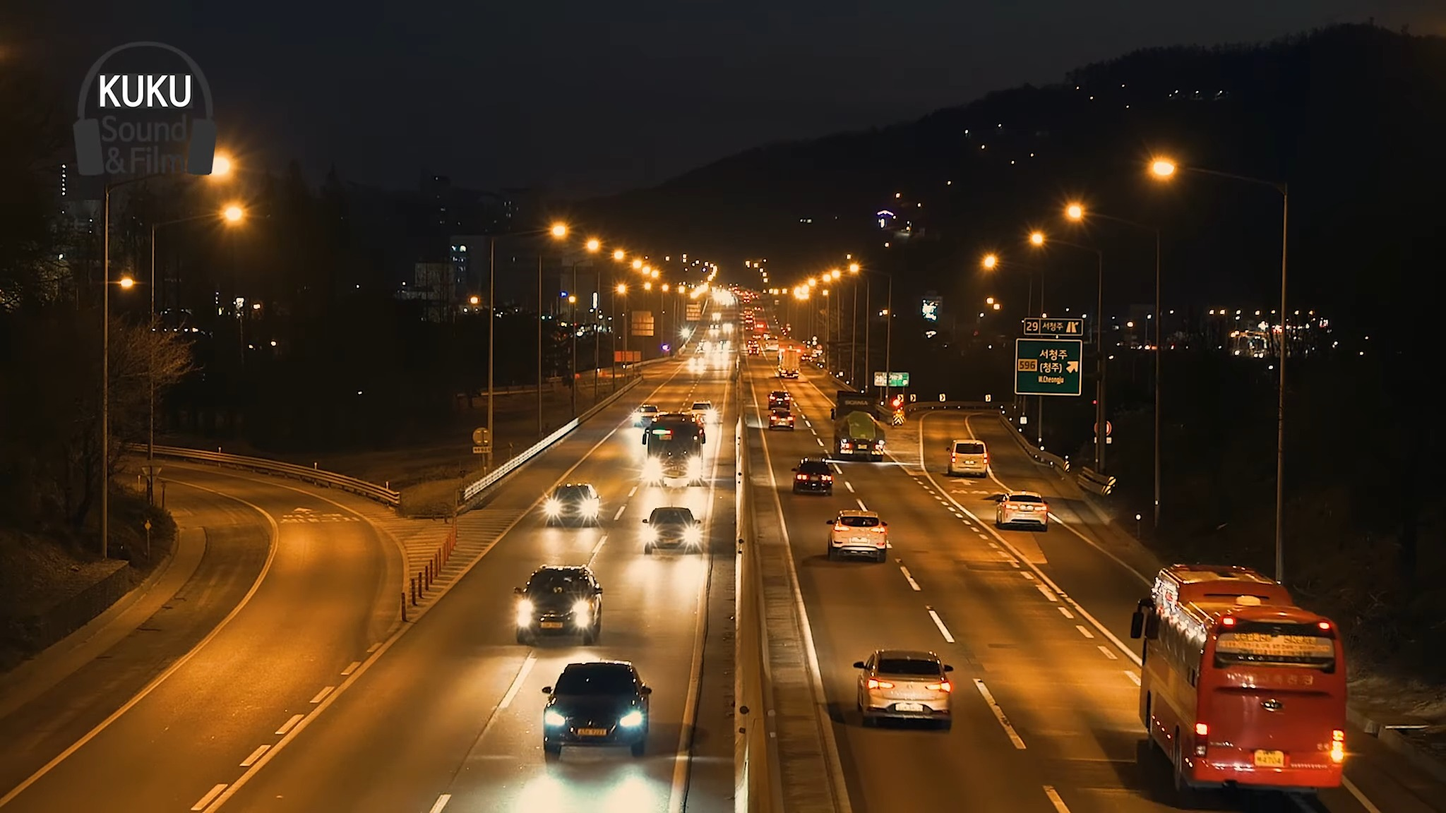car: (1134, 556, 1363, 803), (537, 658, 653, 772), (855, 646, 958, 730), (516, 560, 605, 655), (537, 477, 600, 532), (639, 500, 698, 552), (994, 491, 1049, 532), (834, 512, 884, 552), (791, 459, 836, 495)
